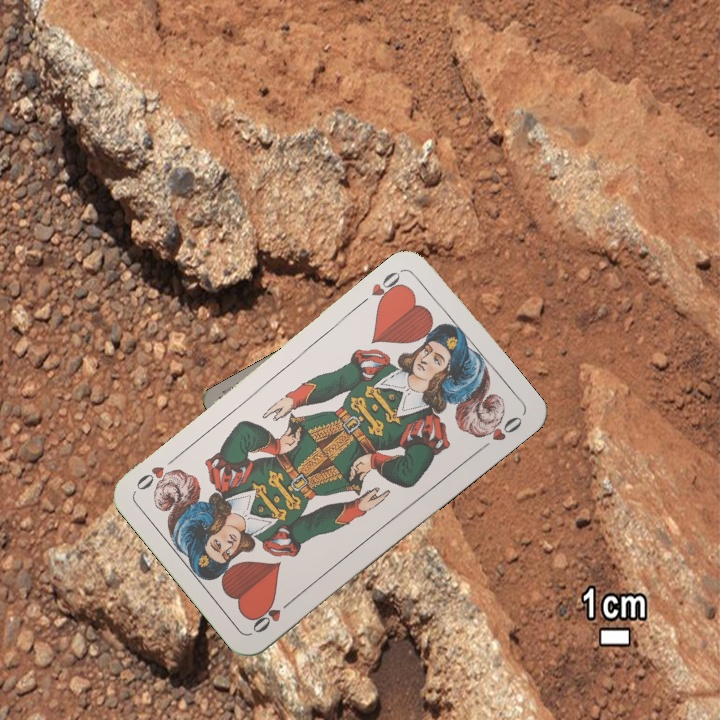HO: (248, 593, 298, 636), (367, 265, 408, 310)
